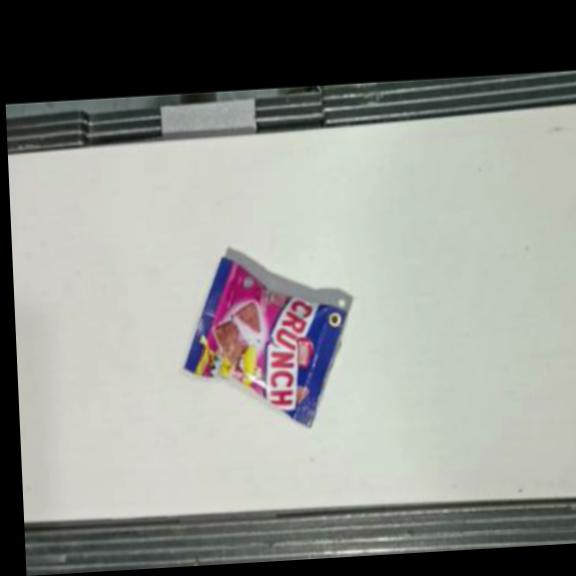Plastik: (176, 246, 352, 436)
